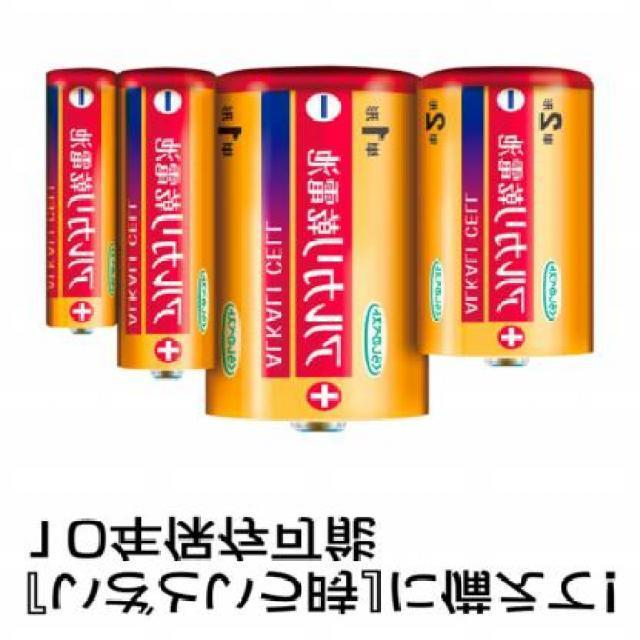AA: (110, 72, 222, 380)
AAA: (44, 66, 116, 337)
